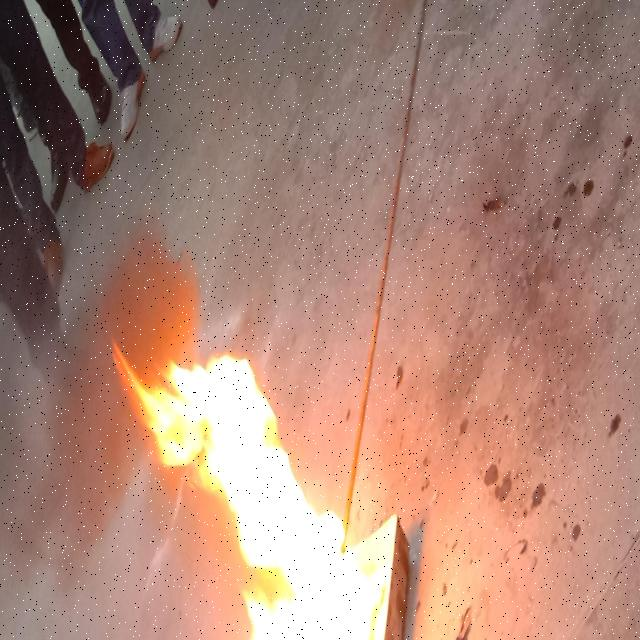fire: (116, 348, 390, 640)
